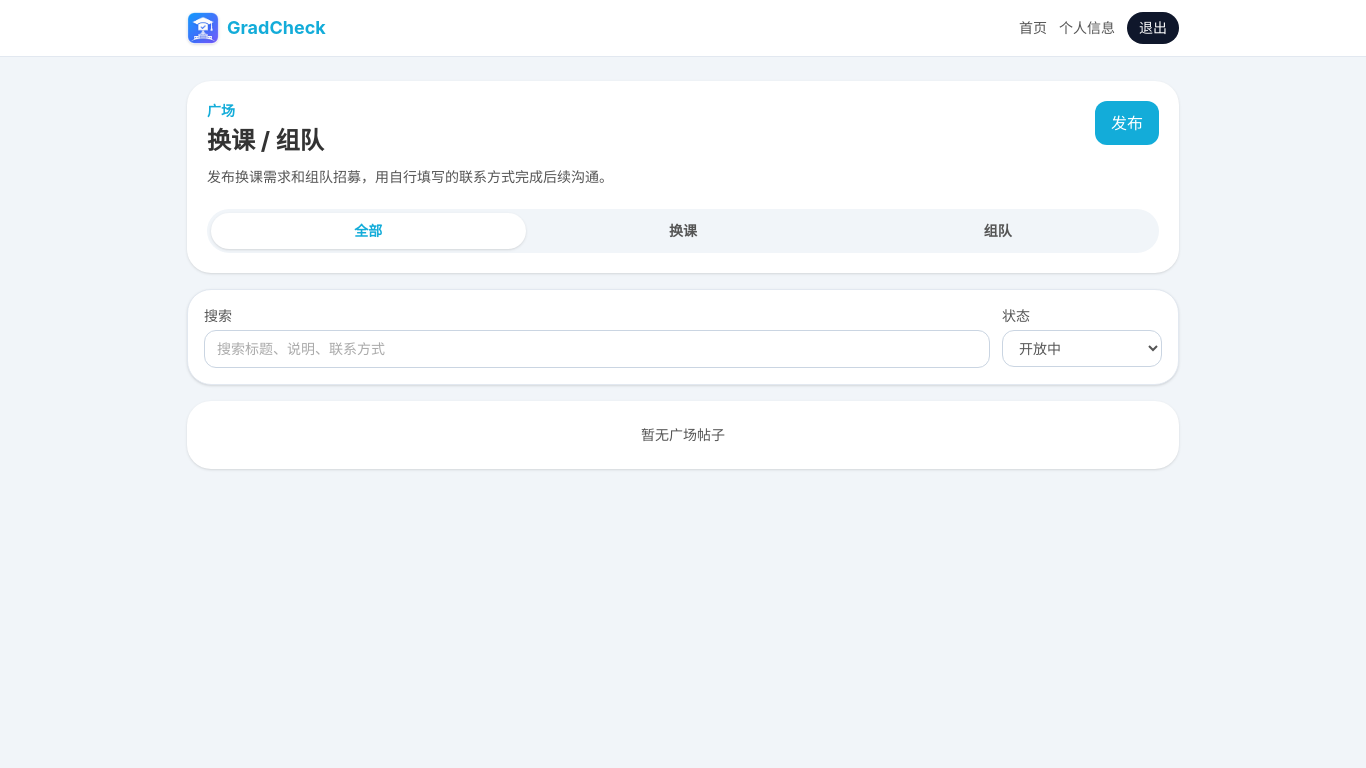
Test: PlazaPage › shows an empty state and opens the create form
Click the button with test id "plaza-create-button": click(1127, 123) [1095,101,1159,145]
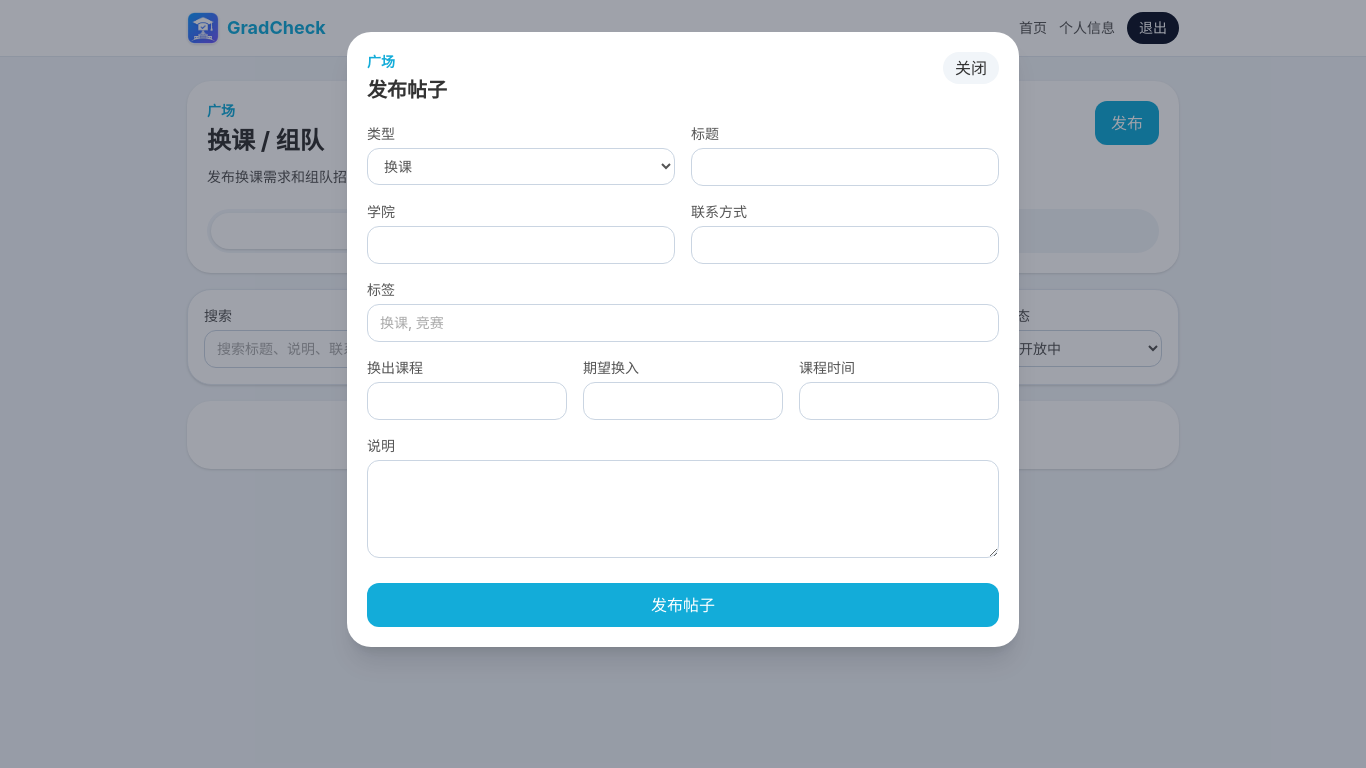
Now the text "发布帖子" is shown, box [367,76,447,104]
